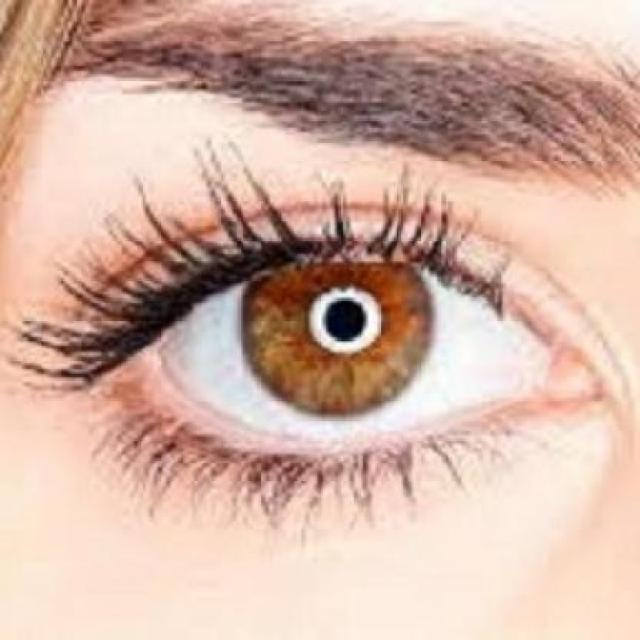awake: (83, 207, 606, 471)
